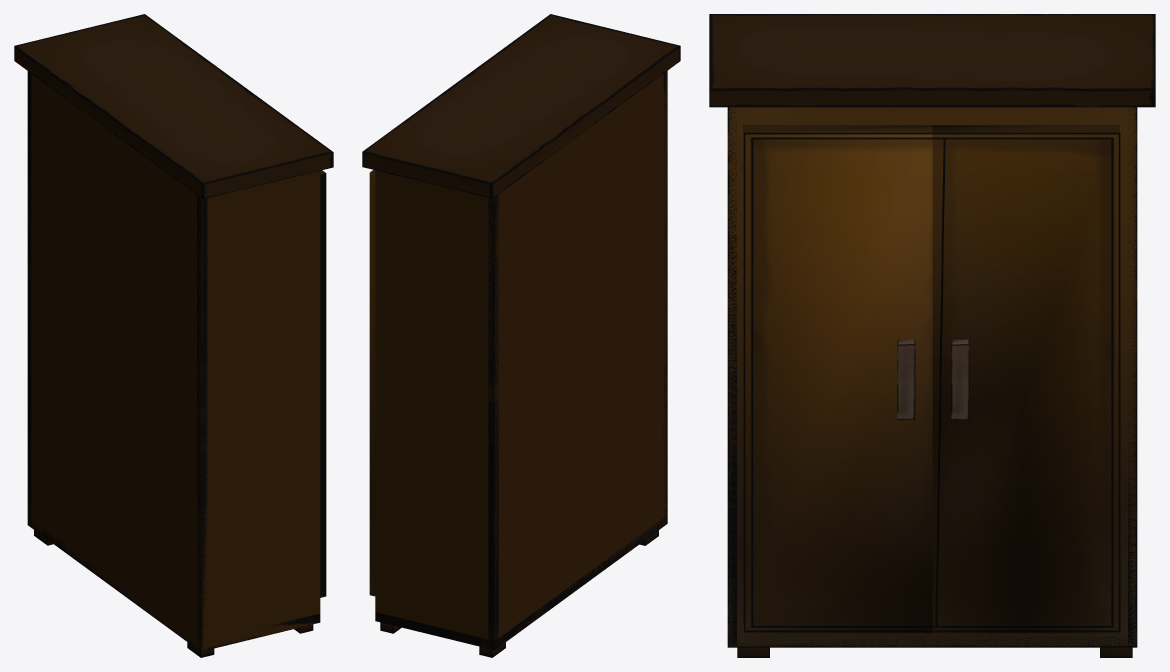
Rendered from lowPolyWardrobe.fbx.
3 renders of one model, left to right at view 1: azimuth 30°, elevation 25°; view 2: azimuth 150°, elevation 25°; view 3: azimuth 270°, elevation 25°, orthographic. The views are drawn at different scales.
Parts seen in each view (by area): view 1: armario, armario.001; view 2: armario, armario.002; view 3: armario.001, armario.002, armario, armario.004, armario.003.
Part boxes in pixels (x1,y1,x2,y2): armario: (14,14,333,657); armario.001: (320,170,326,597); armario: (362,14,680,657); armario.002: (369,170,375,596); armario.001: (744,125,932,633); armario.002: (932,125,1120,633); armario: (709,14,1155,657); armario.004: (897,339,915,419); armario.003: (951,339,969,419).
Size of the model in its own units: 11.05 by 34.9 by 24.62.
